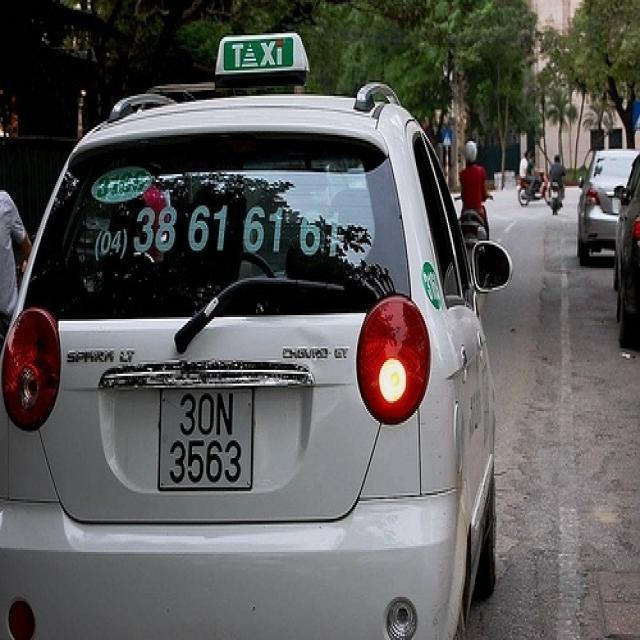Plaque: (159, 386, 254, 490)
